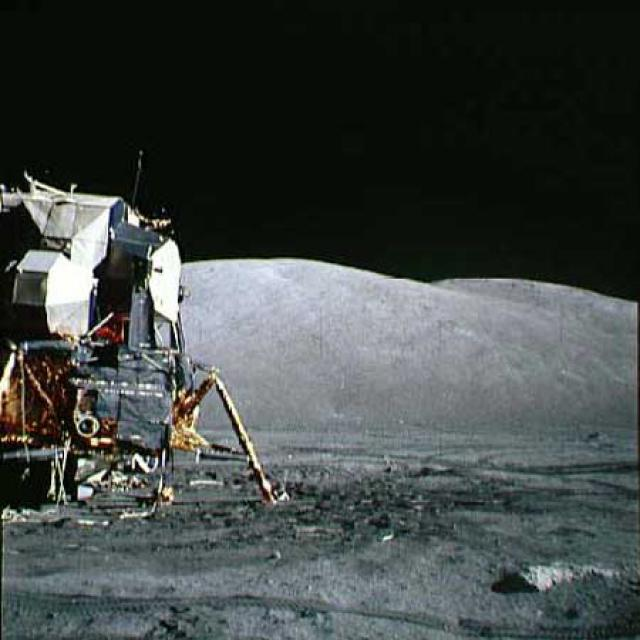artifact: (0, 133, 292, 529)
rock: (498, 548, 623, 600)
